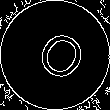O_SW: (24, 22, 86, 88)
